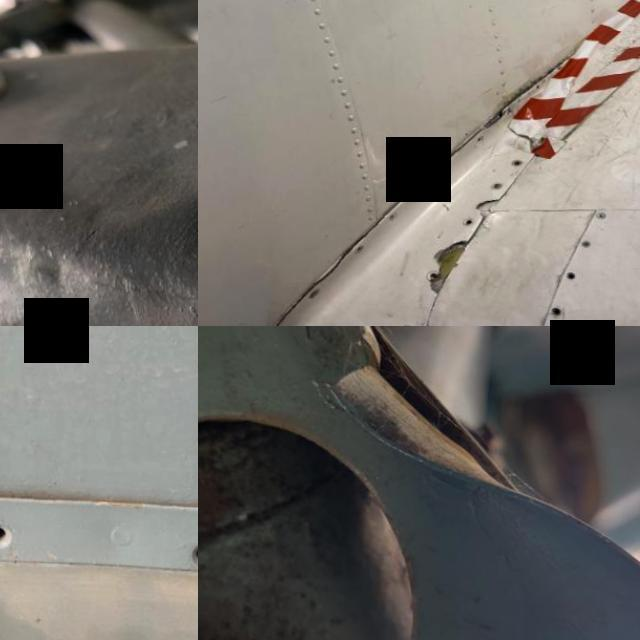Crack: (312, 336, 399, 410), (287, 230, 367, 301), (478, 71, 554, 132), (414, 235, 477, 293), (471, 197, 502, 216)
Missing_Fastener: (153, 510, 198, 596), (0, 496, 34, 578), (544, 304, 558, 315), (560, 270, 574, 280), (458, 214, 469, 226), (436, 162, 448, 172), (506, 157, 520, 165), (472, 133, 482, 142)
